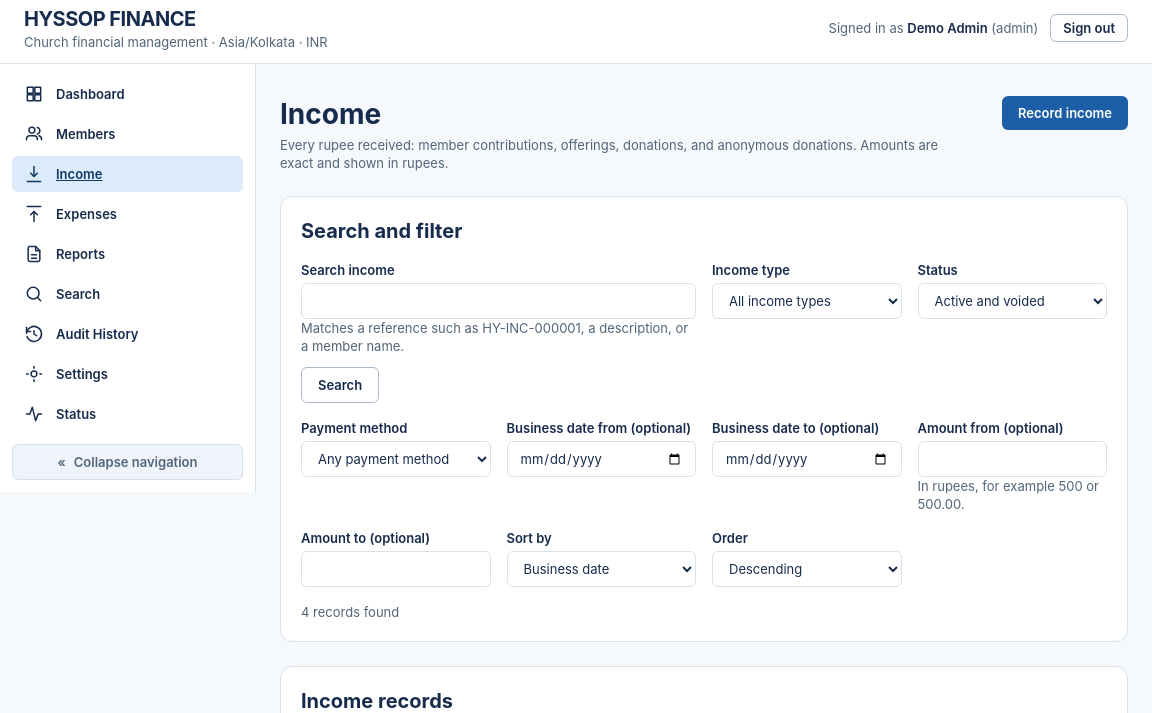
Test: searching and filtering income › explains an empty filter result and offers a reset instead of a blank table
Type "zzzz-no-such-income" into the search field labelled "Search income" at (498, 301), box [301,283,696,319]
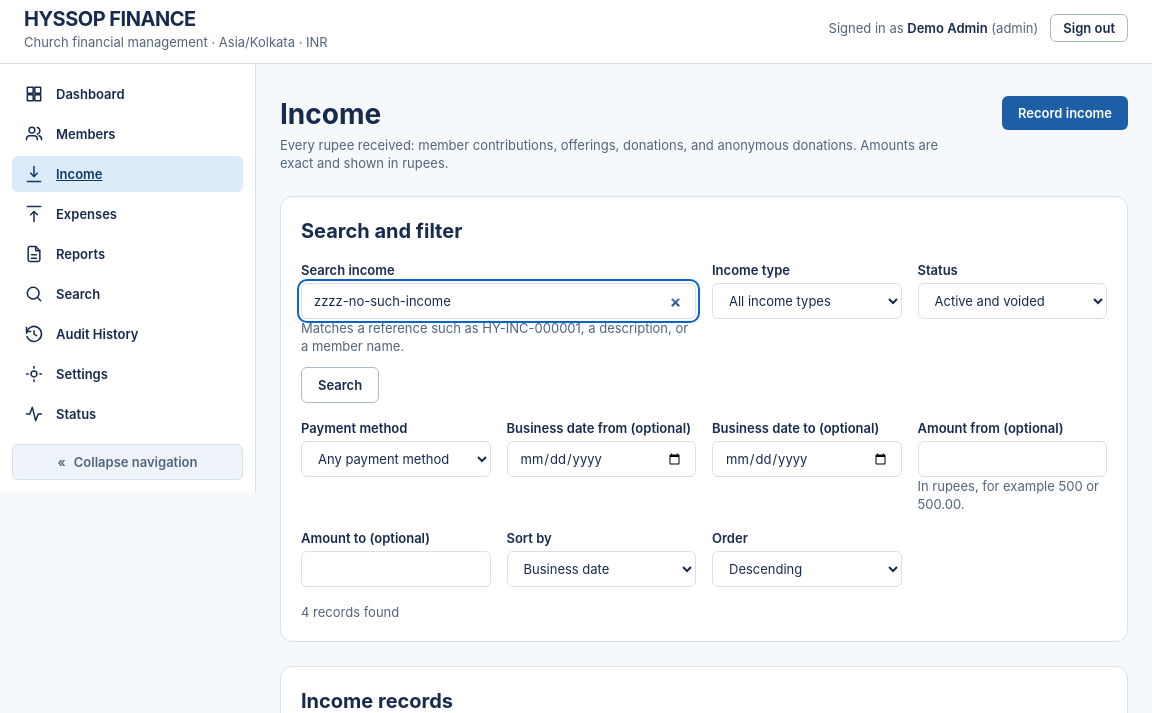
Click the button "Search" at (340, 385), box [301,367,379,403]
(page scrolled)
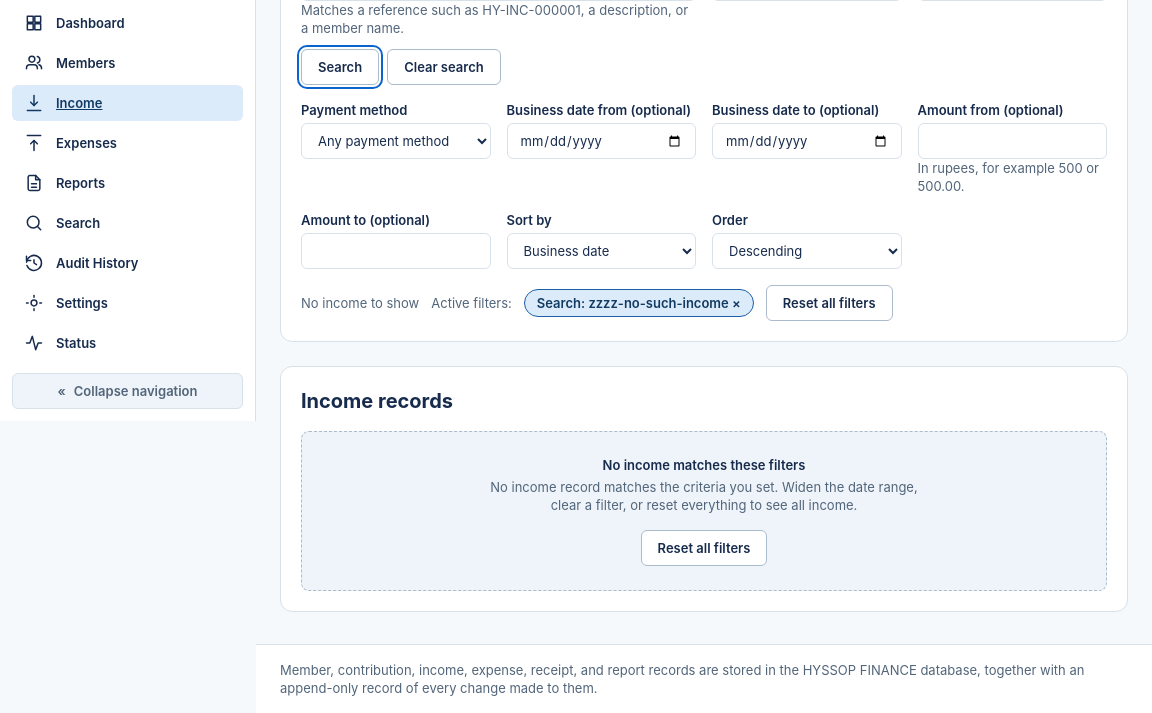
Result: the text "No income matches these filters" is shown at [603,457,805,473]
